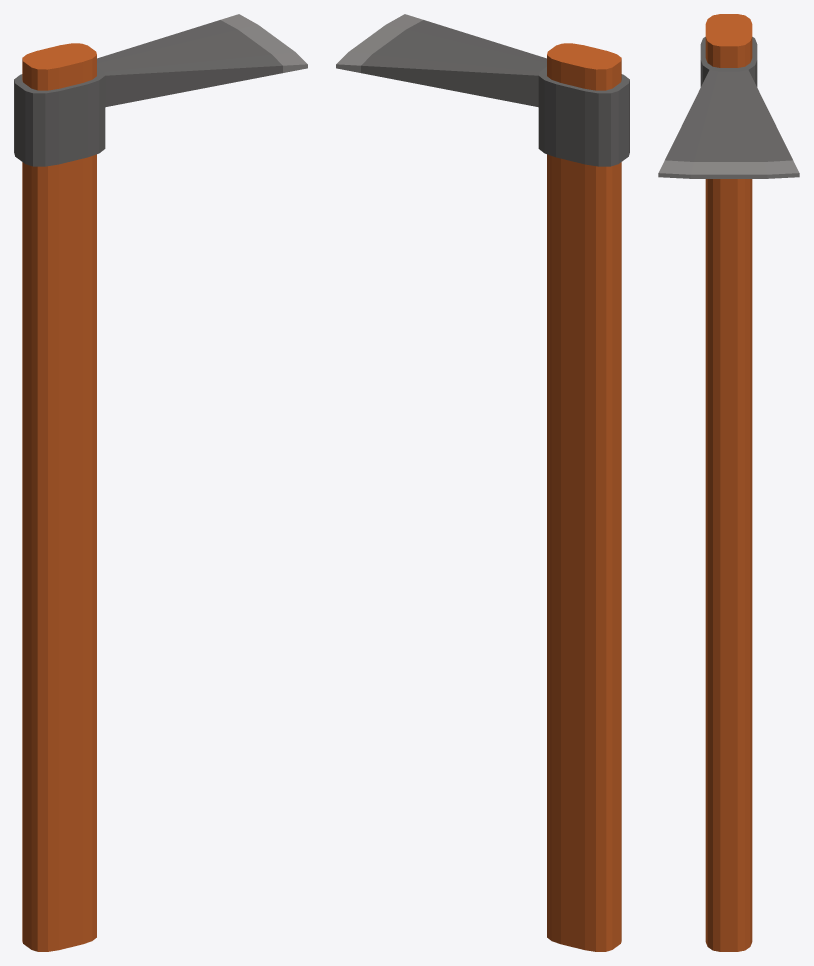
File: Hoe.fbx
3 views of the same model, side by side, from view 1: azimuth 30°, elevation 25°; view 2: azimuth 150°, elevation 25°; view 3: azimuth 270°, elevation 25° (orthographic). The views are drawn at different scales.
Visible parts, largest first — view 1: Hoe; view 2: Hoe; view 3: Hoe.
Part boxes in pixels (x1,y1,x2,y2): Hoe: [14, 14, 307, 951]; Hoe: [336, 14, 629, 951]; Hoe: [658, 14, 799, 951].
Bounding box in the file's own units: 28.6 × 94 × 13.28.
